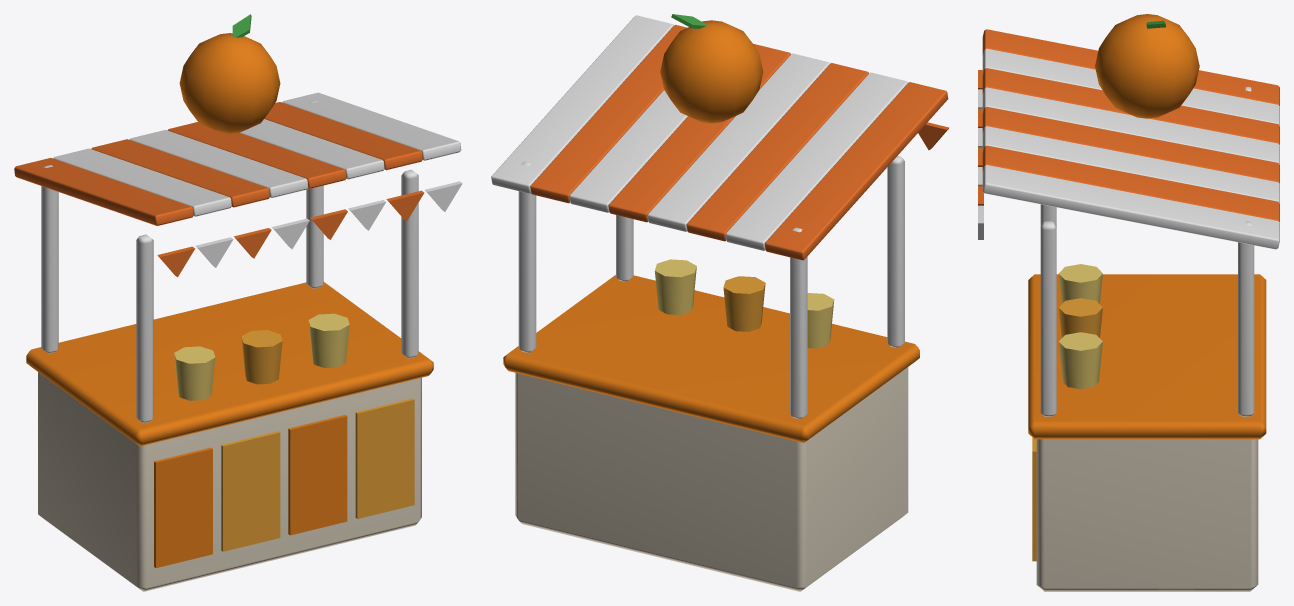
Rendered from citrus-deco3.glb.
3 views of the same model, side by side, from view 1: azimuth 30°, elevation 25°; view 2: azimuth 150°, elevation 25°; view 3: azimuth 270°, elevation 25° (orthographic). The views are drawn at different scales.
Visible parts, largest first — view 1: citrus-deco3; view 2: citrus-deco3; view 3: citrus-deco3.
Boxes of the visible parts, bbox=[...] form: citrus-deco3: bbox=[14, 14, 462, 591]; citrus-deco3: bbox=[491, 14, 949, 591]; citrus-deco3: bbox=[978, 14, 1279, 591].
Bounding box in the file's own units: 1.82 × 2.82 × 1.5.
